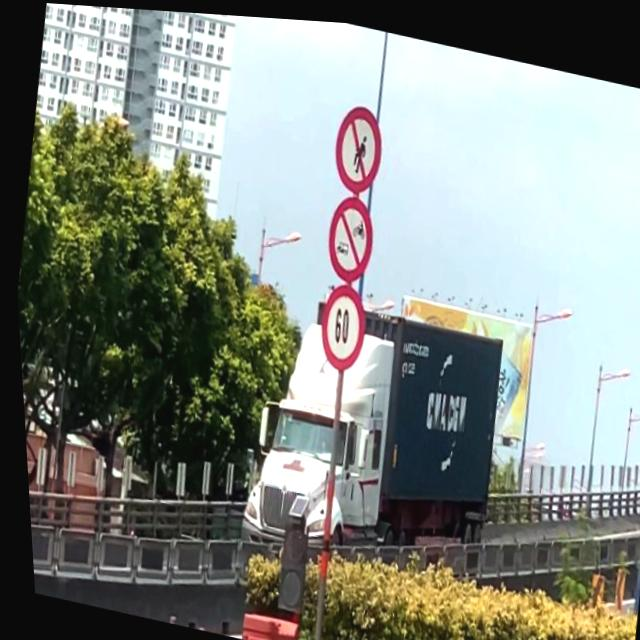Toc do toi da cho phep: (308, 274, 370, 372)
